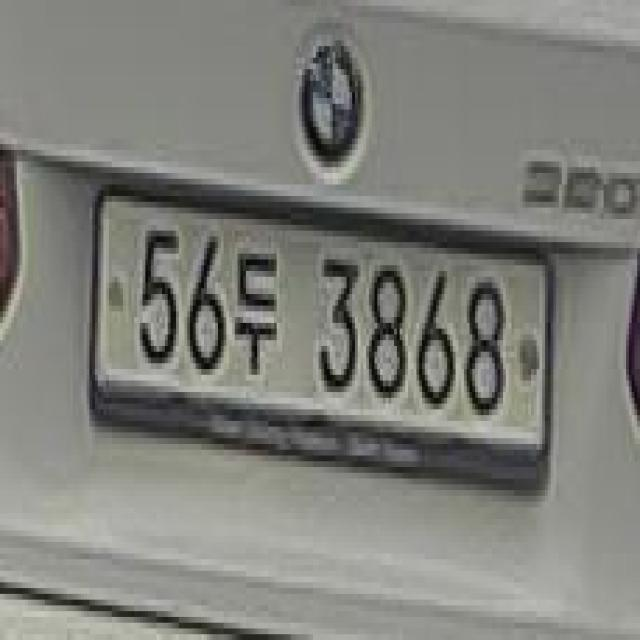illegal_plate: (88, 178, 557, 518)
